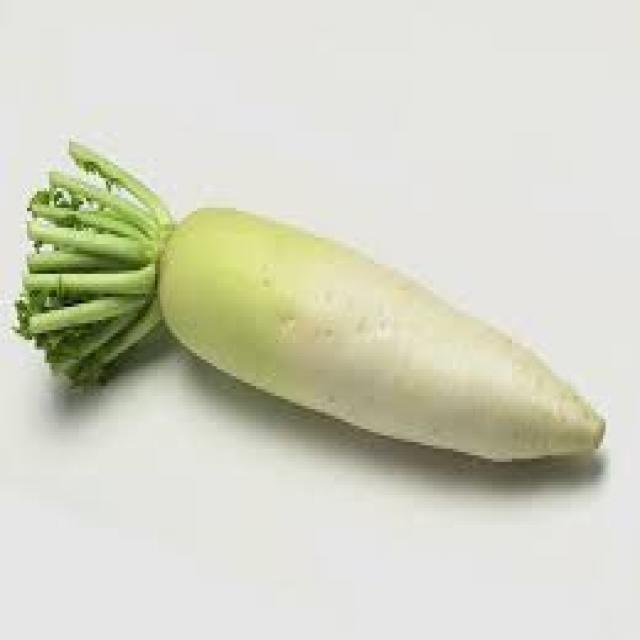raddish: (161, 211, 609, 460)
